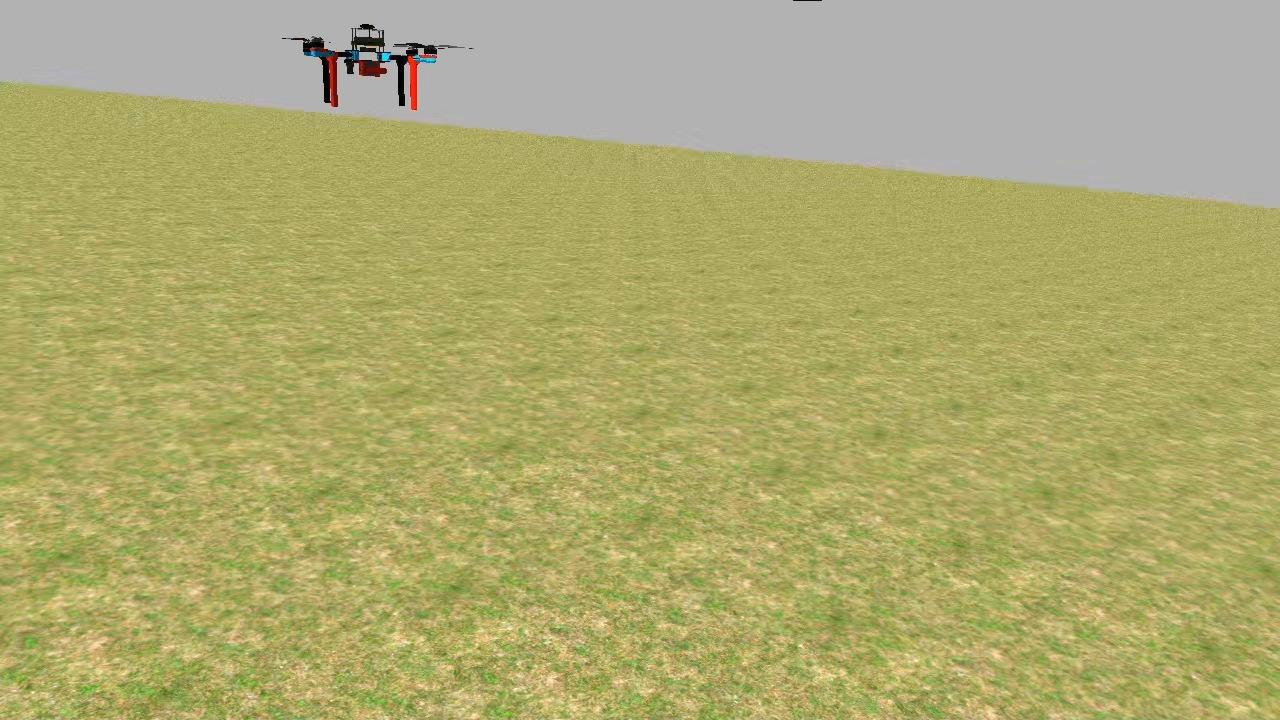UAV: (294, 18, 450, 114)
